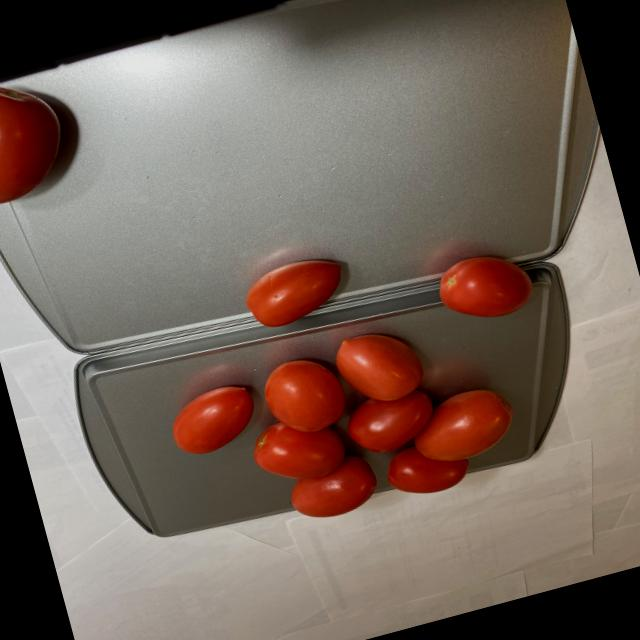tomato: (128, 202, 582, 555), (0, 75, 76, 221)
